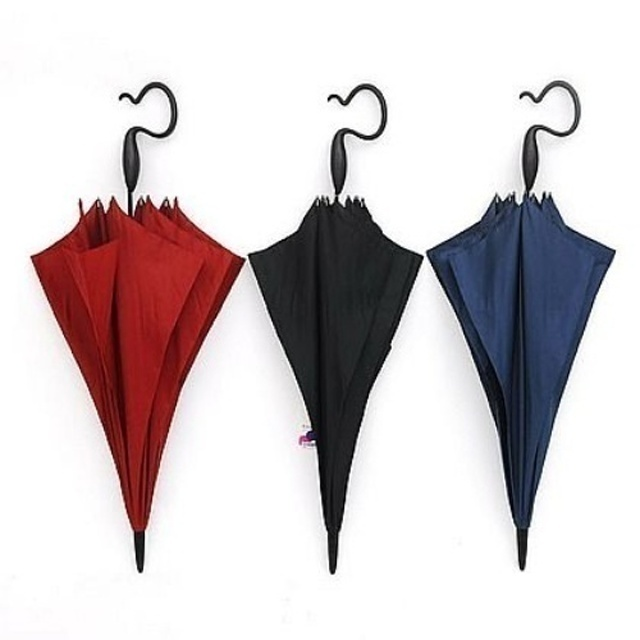umbrella: (29, 77, 246, 576), (423, 76, 621, 576), (244, 77, 424, 578)
